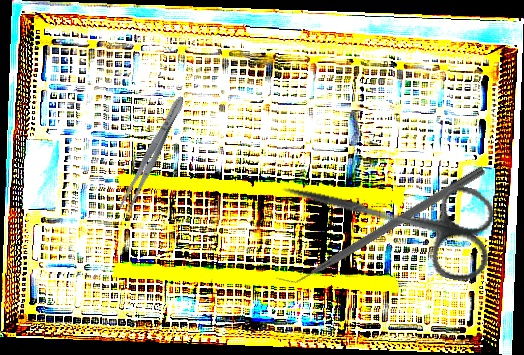Chopper: (274, 155, 486, 294)
Dressing Forceps: (117, 93, 189, 214)
Iris Scissors: (271, 146, 503, 287)
